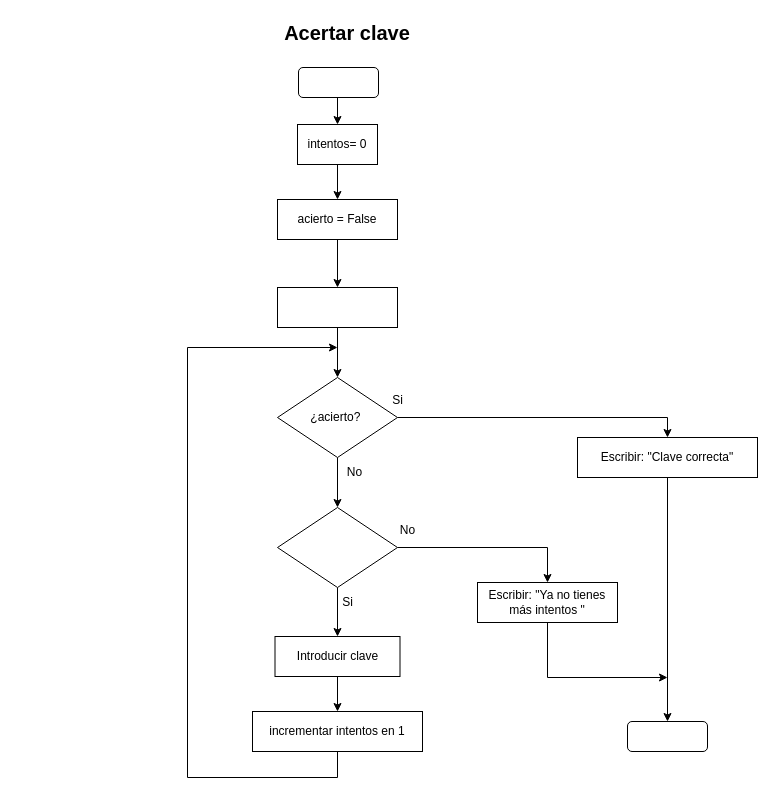
Some shapes in this 775 by 803 pixel diagram are drawn without their labels. Each missing label, with the box of its shape:
clave = eureka: (276, 286, 398, 328)
Fin: (626, 720, 708, 752)
Inicio: (298, 66, 378, 98)
¿intentos< 3?: (276, 506, 398, 588)
